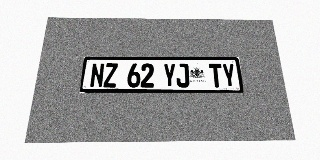2: (141, 63, 154, 87)
6: (127, 63, 141, 87)
J: (176, 63, 189, 87)
N: (89, 63, 105, 87)
T: (209, 64, 223, 87)
Y: (221, 64, 236, 87), (163, 63, 176, 87)
Z: (103, 63, 118, 87)
